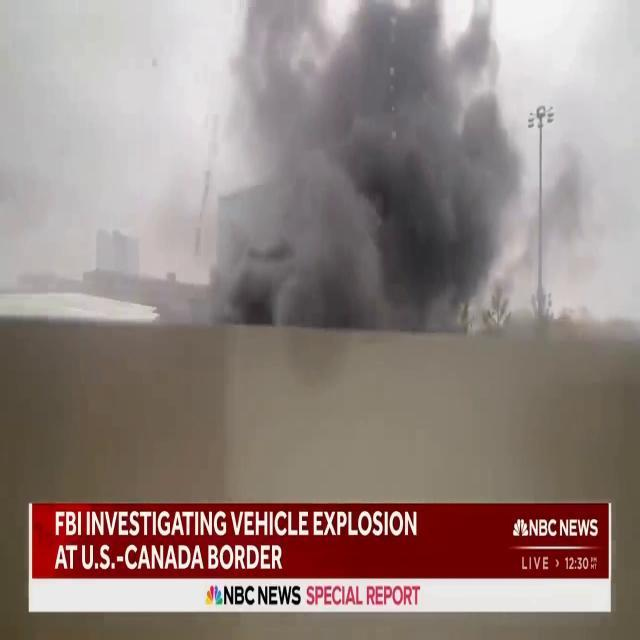Smoke: (168, 1, 596, 336)
